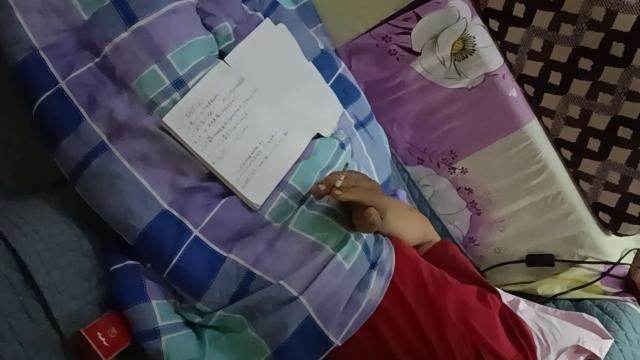Smoking: (327, 162, 349, 206)
